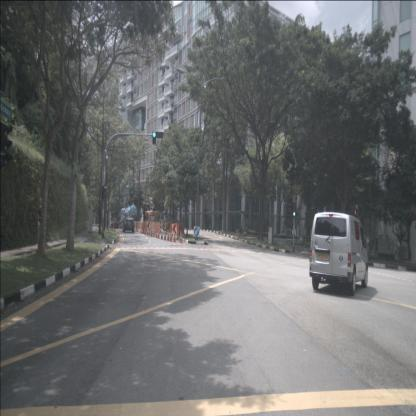human-pedestrian-adult: (36, 198, 44, 246)
movable_object-barrier: (171, 222, 184, 235), (150, 222, 160, 234), (144, 222, 154, 232), (166, 221, 174, 232), (140, 223, 145, 234), (136, 221, 140, 232), (139, 221, 142, 234), (133, 221, 136, 232)
movable_object-trafficcone: (179, 230, 183, 243), (166, 230, 170, 241), (152, 228, 156, 238), (173, 230, 176, 243), (155, 228, 158, 238), (157, 229, 160, 239), (150, 228, 153, 237), (170, 231, 172, 242), (161, 229, 163, 240), (164, 231, 166, 241)
vehicle-bicycle: (239, 229, 247, 239)
vehicle-car: (310, 211, 368, 297), (122, 217, 134, 233)
vehicle-truck: (120, 204, 137, 229), (110, 211, 121, 229)
